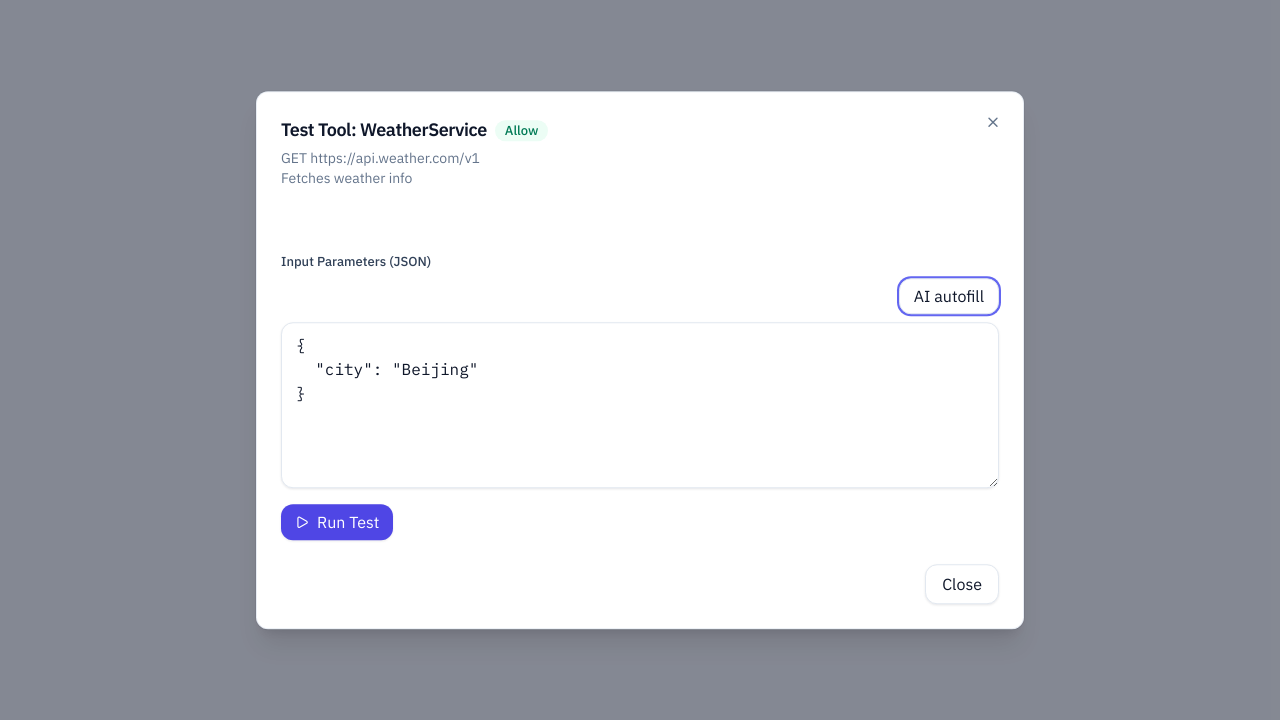
ToolTestPanel › shows a remote failure as an error while preserving its diagnostic result
Click the button "Run Test" at (337, 522), box [281,504,393,540]
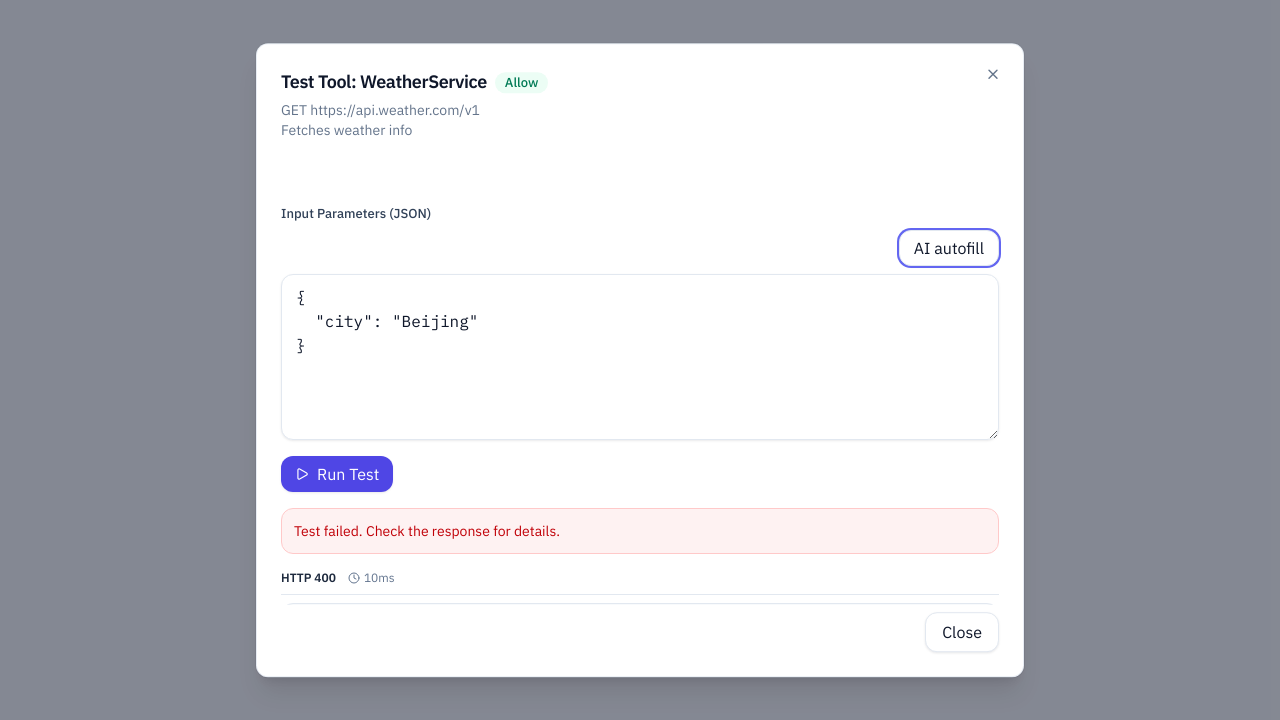
Check: the message "Test failed. Check the response for details." is shown, box [281,508,999,554]
